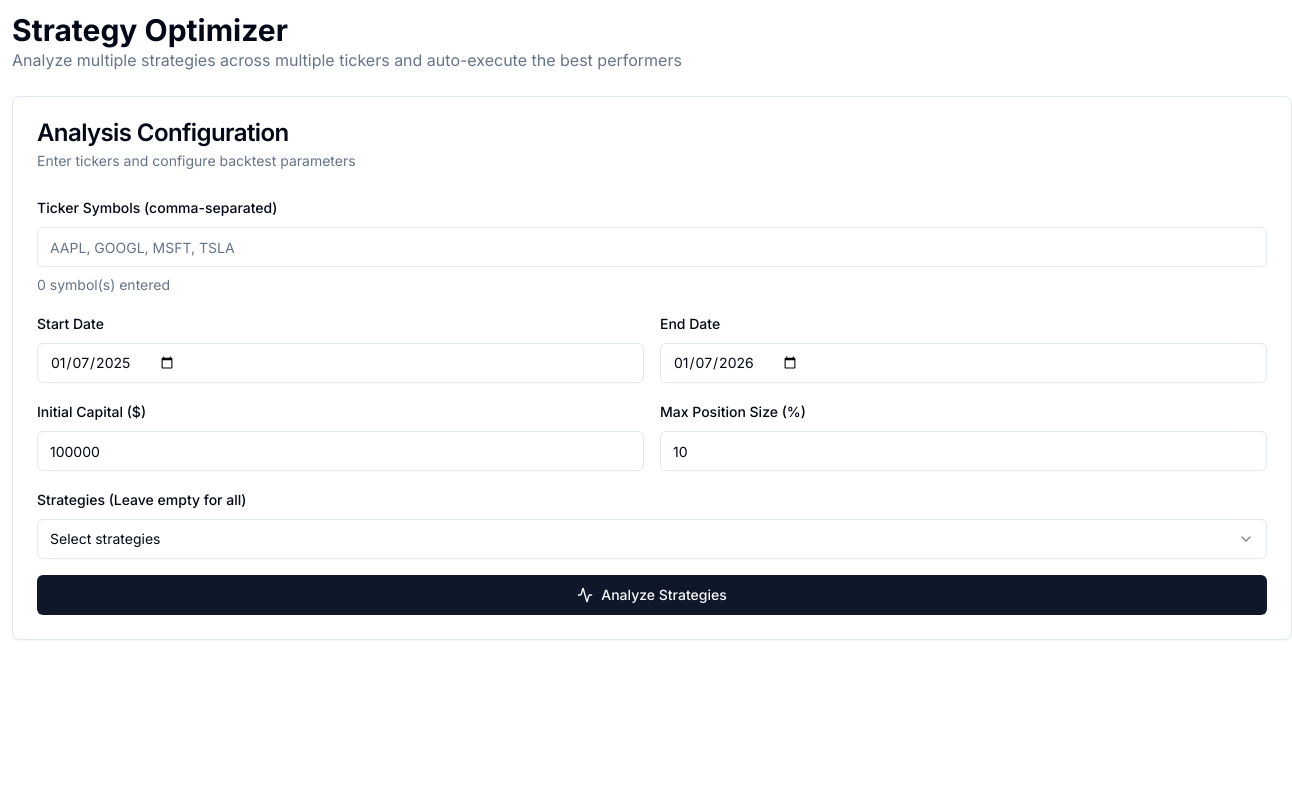
Test case: OptimizerPage › Analysis Submission › shows error when end date is before start date
Step 1. Type "AAPL" into the field labelled "Ticker Symbols (comma-separated)" → x=652, y=247, box [37, 227, 1267, 267]
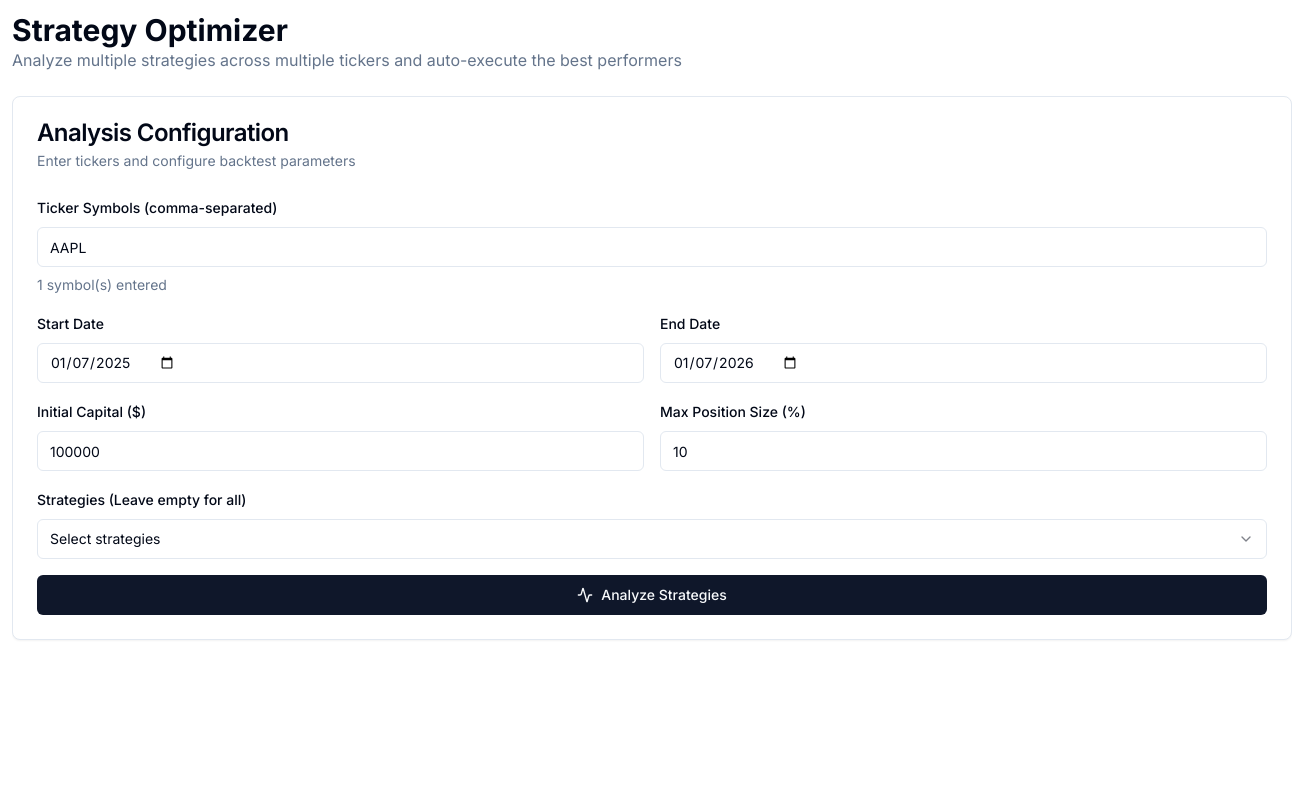
Step 2. Type "2024-12-31" into the date field labelled "Start Date" → x=340, y=363, box [37, 343, 644, 383]
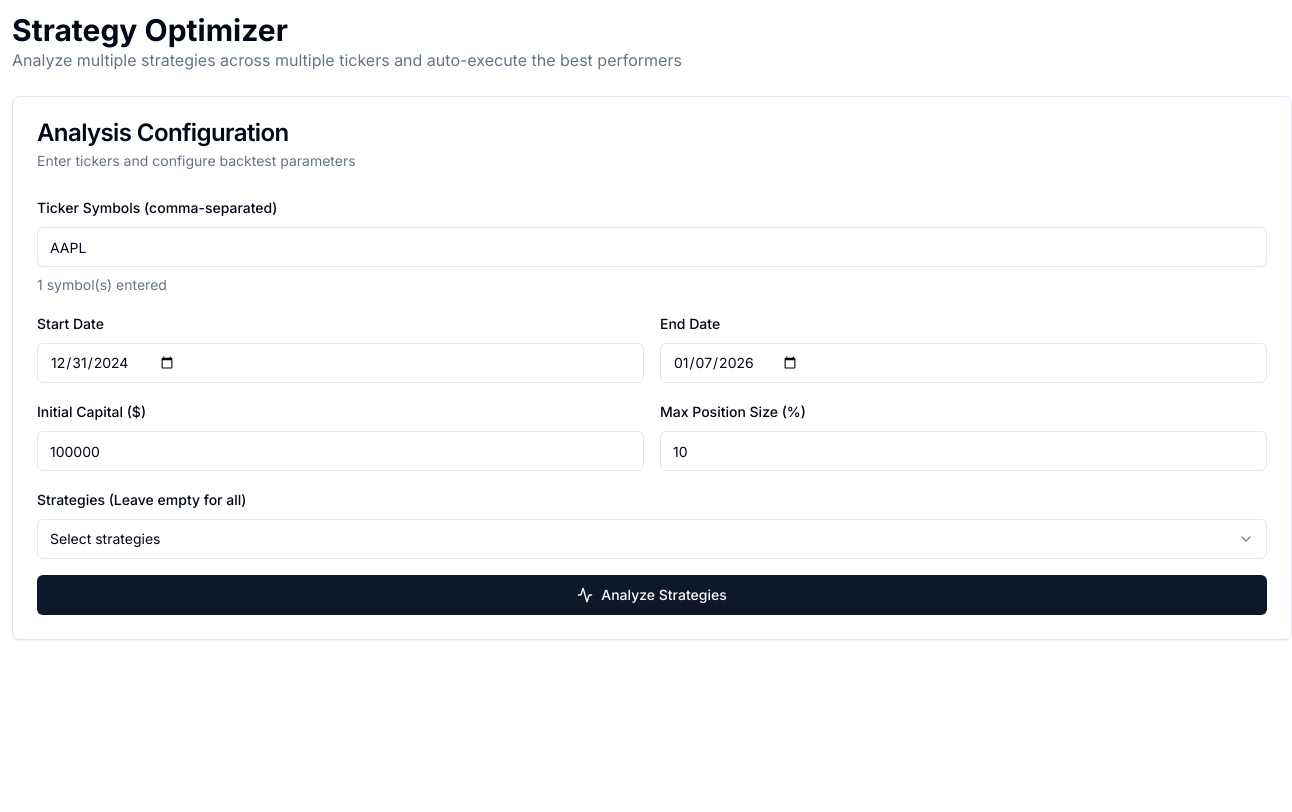
Step 3. Type "2024-01-01" into the date field labelled "End Date" → x=964, y=363, box [660, 343, 1267, 383]
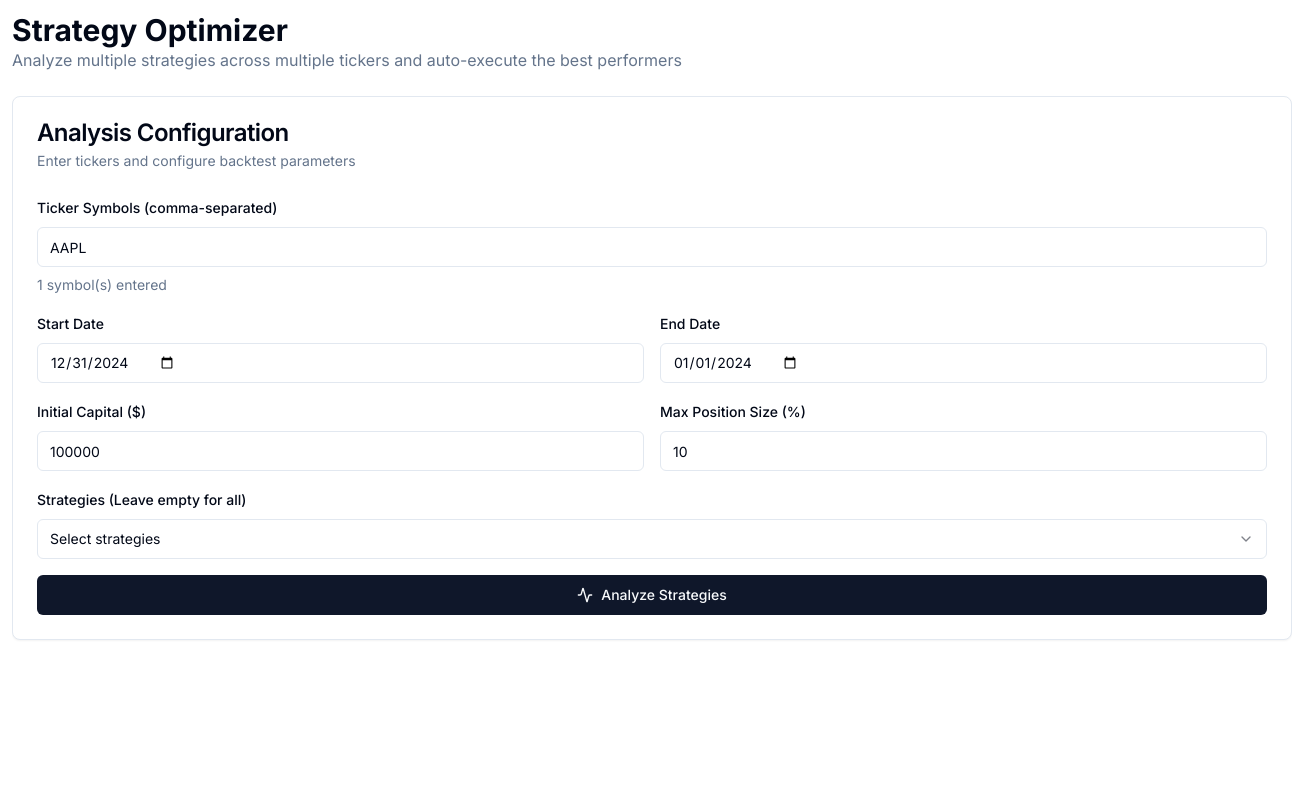
Step 4. Click the button "Analyze Strategies" → x=652, y=595, box [37, 575, 1267, 615]
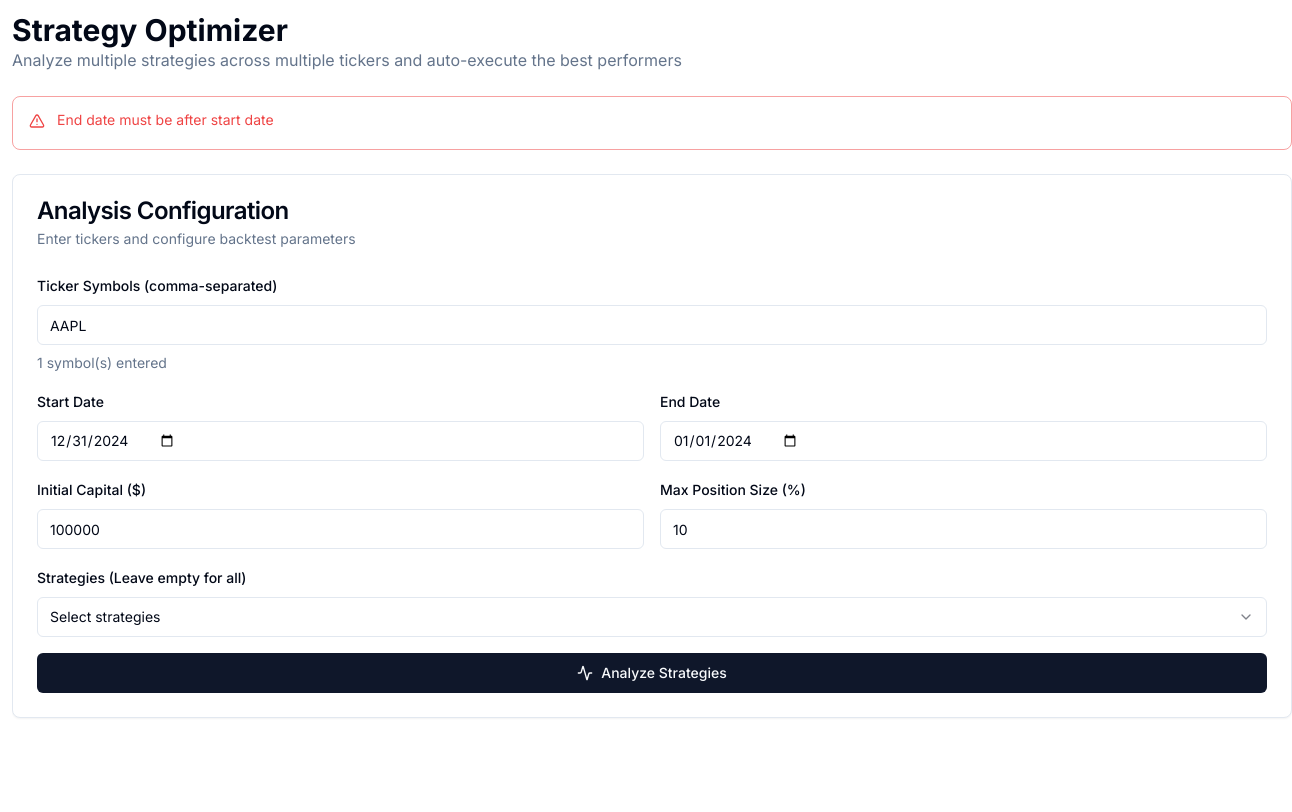
Now the text "End date must be after start date" is shown, box [57, 111, 274, 128]
